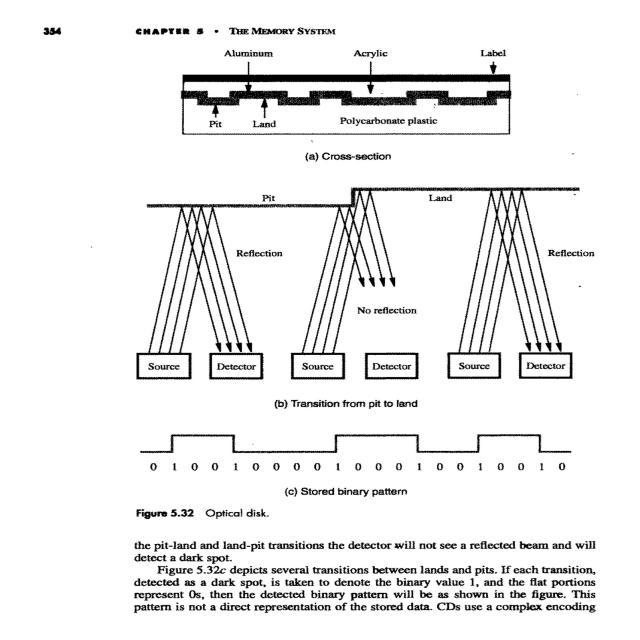diagram: (118, 6, 620, 487)
